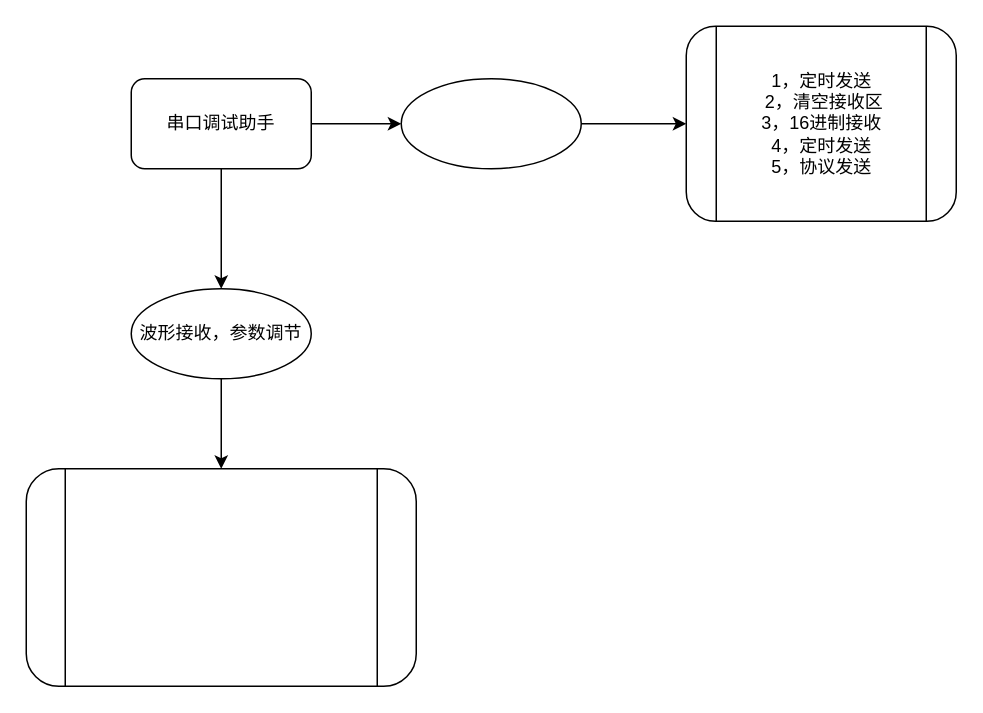
Image size: 983x713. Some labels were removed from this diagram. The shapes that lost their labels are listed below. From the top down, each one's centre as x and y in pixels, then its label:
the point at 490,123: 基本收发
the point at 220,576: 1，接收显示波形 2，发送指令查询通讯 3，发送指令更改参数
